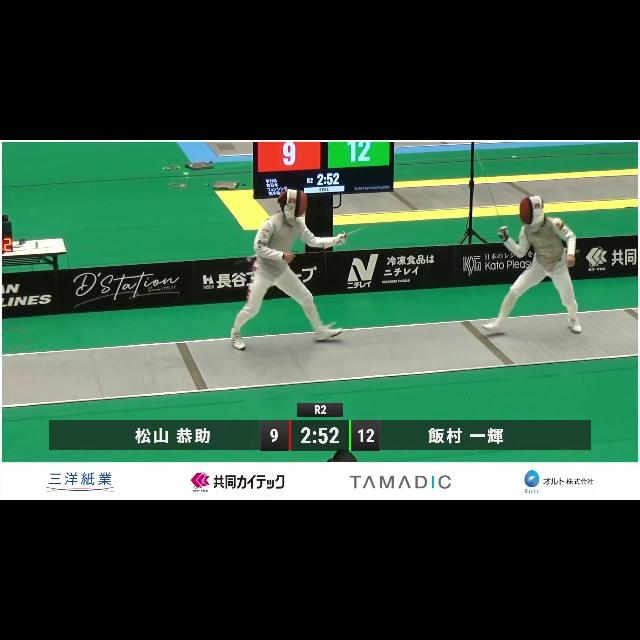blade: (468, 142, 512, 240), (336, 218, 376, 246)
